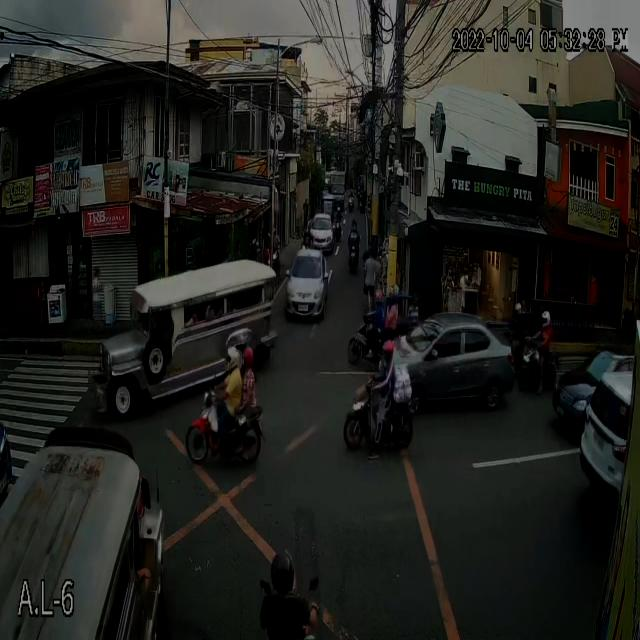Full-Faced: (222, 342, 238, 378), (383, 284, 400, 313), (383, 336, 395, 369), (539, 306, 552, 334), (370, 285, 384, 308), (514, 300, 524, 318), (333, 203, 343, 221)
Half-Faced: (270, 555, 294, 590), (239, 349, 260, 380)
